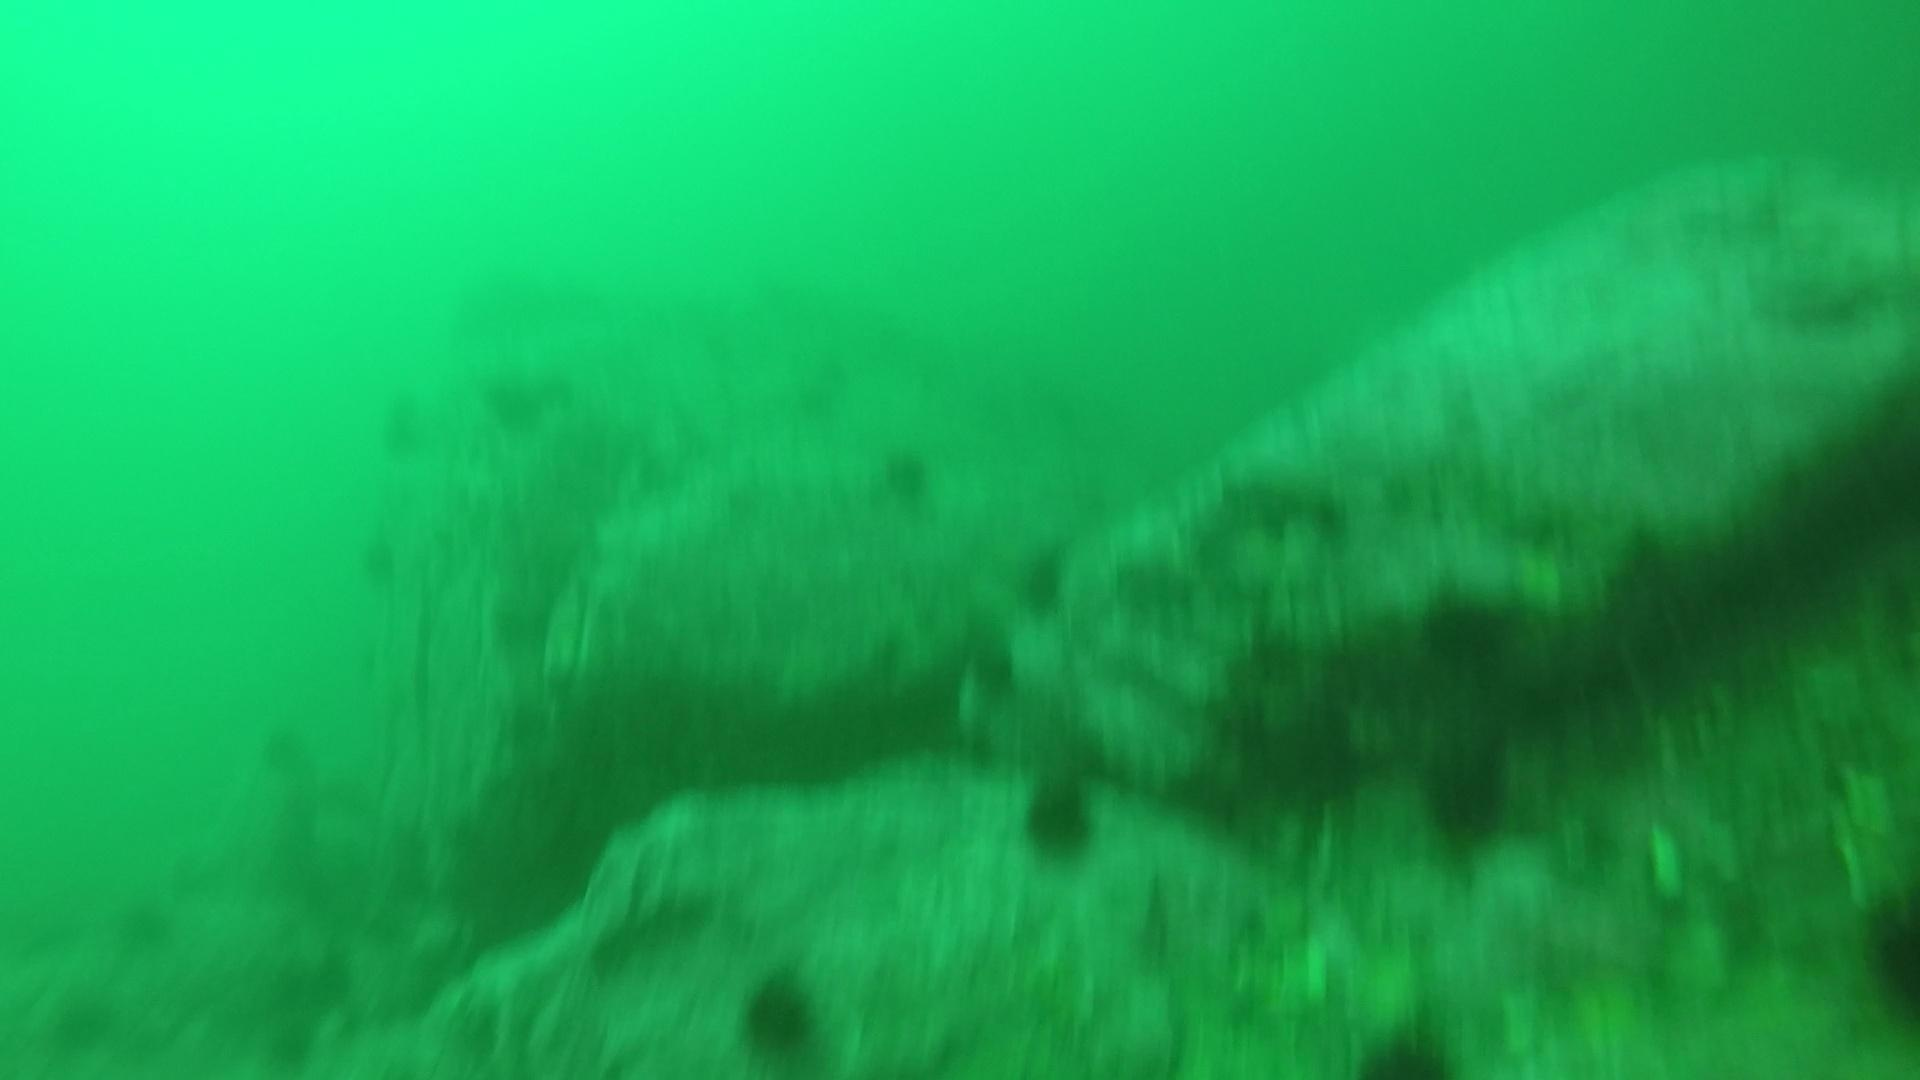echinus: (1415, 742, 1516, 855), (1851, 881, 1919, 1029), (732, 965, 827, 1065), (1014, 771, 1105, 869), (1350, 1017, 1462, 1077), (477, 363, 556, 436), (1010, 542, 1073, 618), (873, 442, 940, 506), (253, 727, 302, 775), (375, 390, 425, 438), (381, 430, 430, 477), (356, 535, 405, 583)
